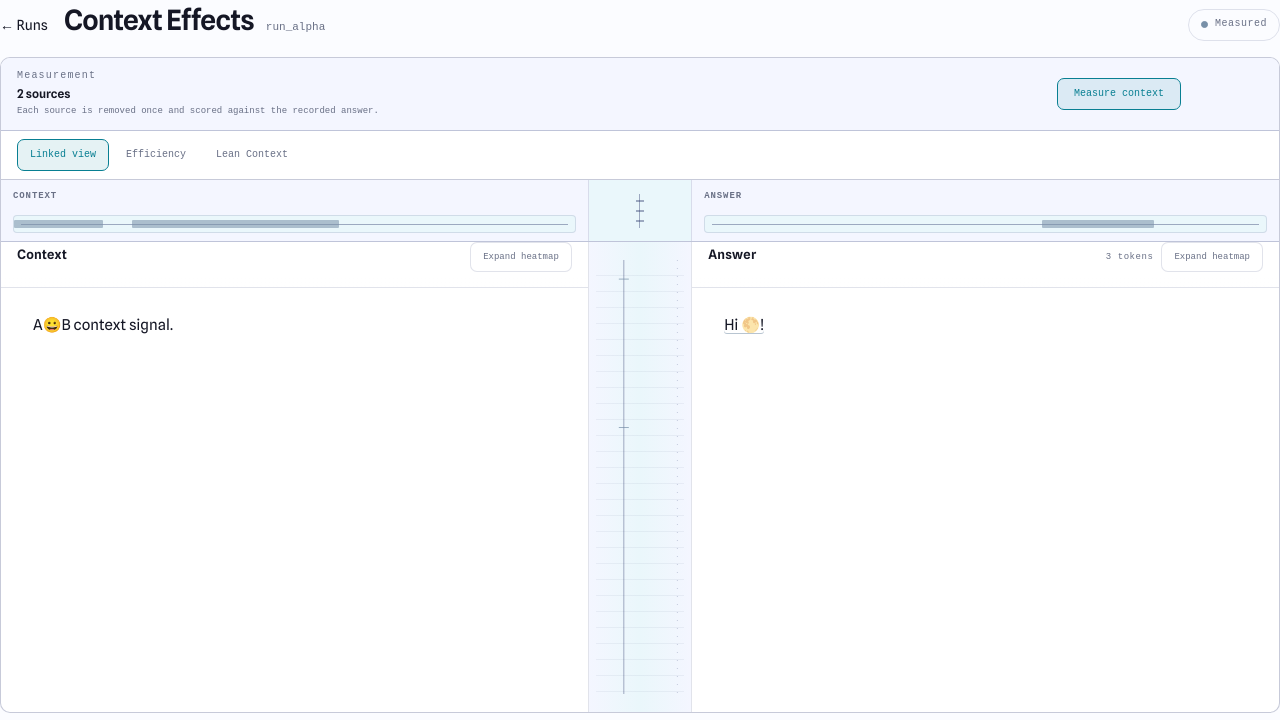
Test case: Inspect surface › runs Lean Context and labels the result as best-found rather than minimal
Click the button "Lean Context": click(252, 155) top-left (203, 139), bottom-right (301, 171)
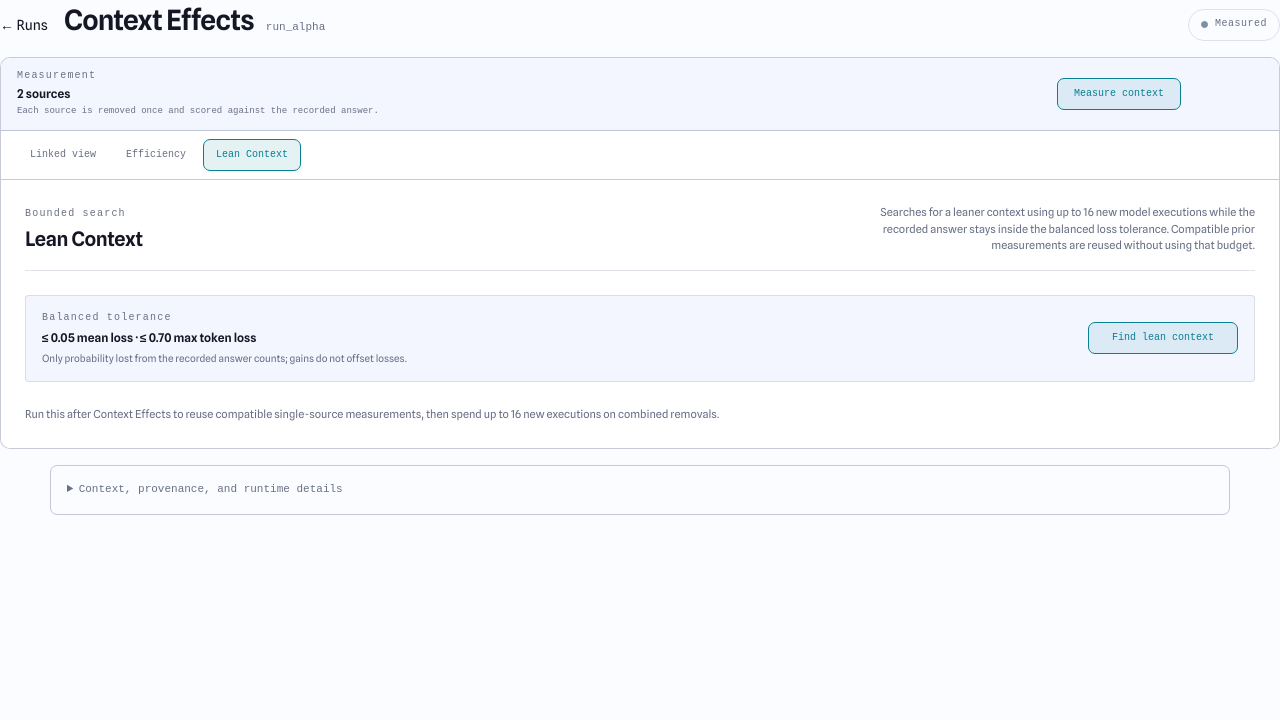
Check: the text "Searches for a leaner context using up to 16 new model executions while the recorded answer stays inside the balanced lo" is shown, box top-left (880, 205), bottom-right (1255, 252)
Click the button "Find lean context": click(1163, 338) top-left (1088, 322), bottom-right (1238, 354)
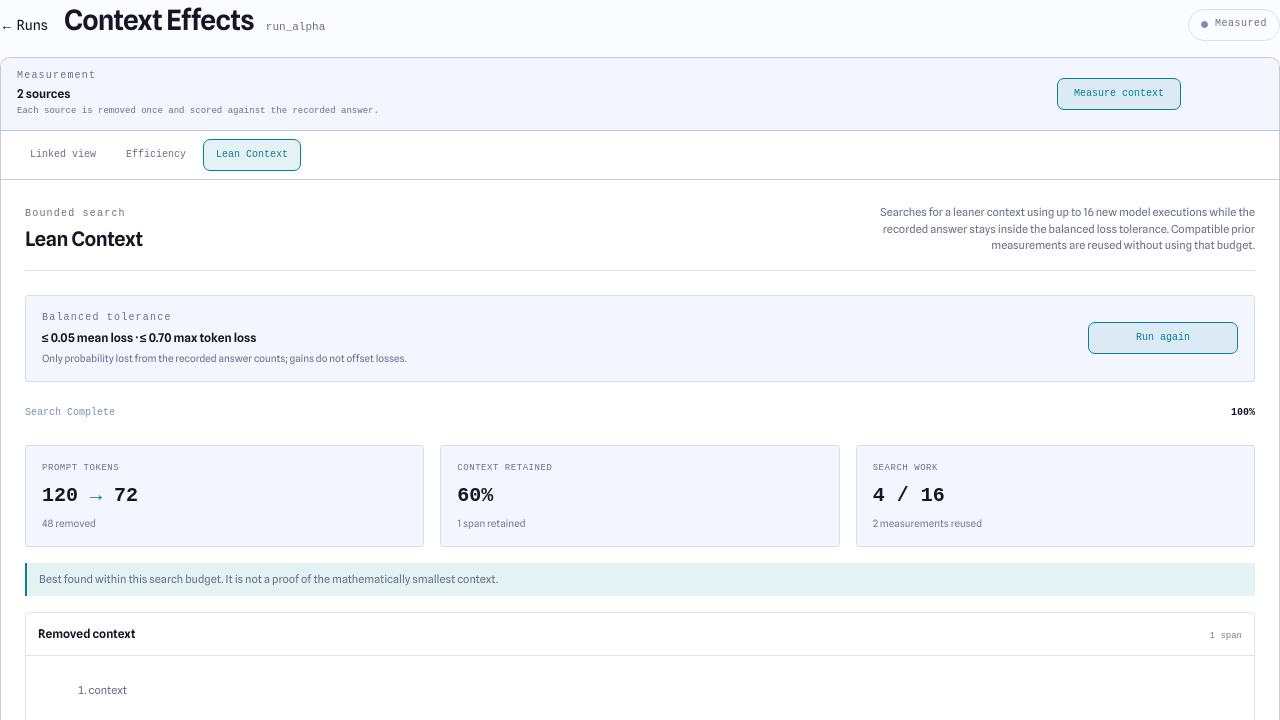
Check: the text "Prompt tokens" shows "120 → 72", box top-left (25, 445), bottom-right (424, 547)
Check: the text "60%" is shown, box top-left (457, 484), bottom-right (493, 507)
Check: the text "Best found within this search budget. It is not a proof of the mathematically smallest context." is shown, box top-left (39, 572), bottom-right (498, 586)
